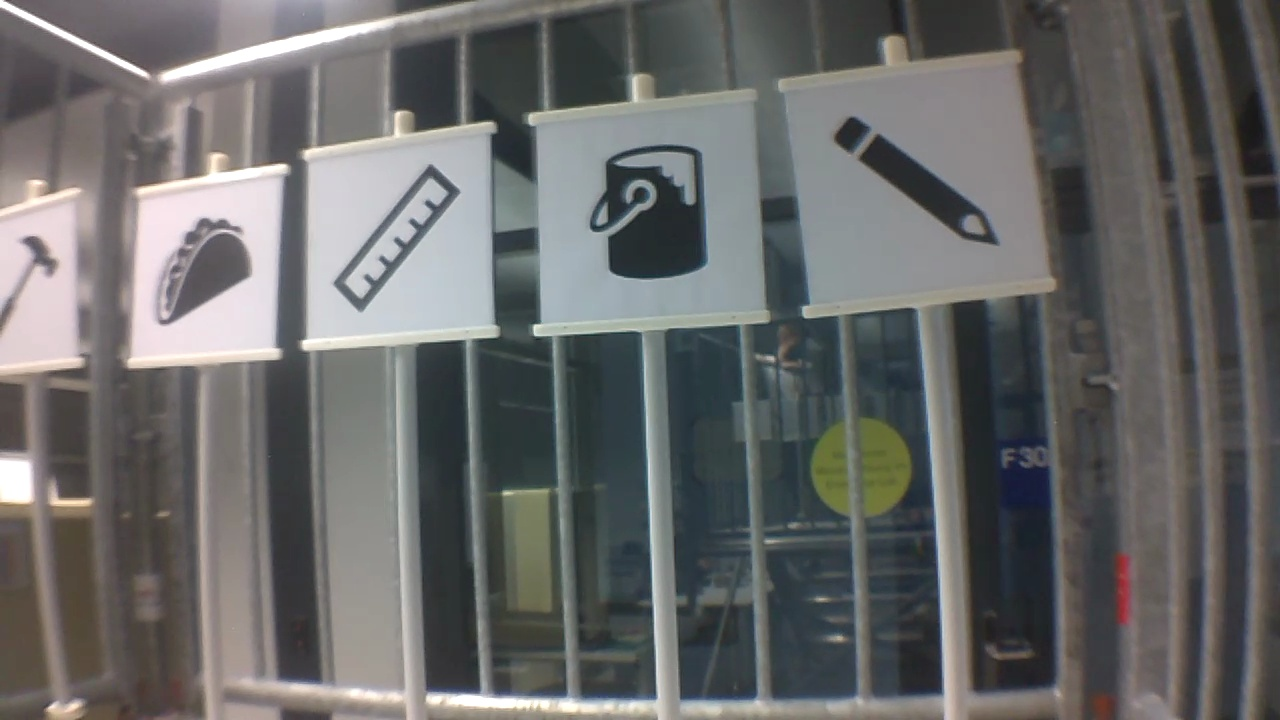bucket: (580, 138, 712, 282)
hammer: (1, 232, 65, 344)
pencil: (823, 108, 1010, 260)
ruler: (325, 159, 463, 319)
taco: (150, 215, 257, 331)
